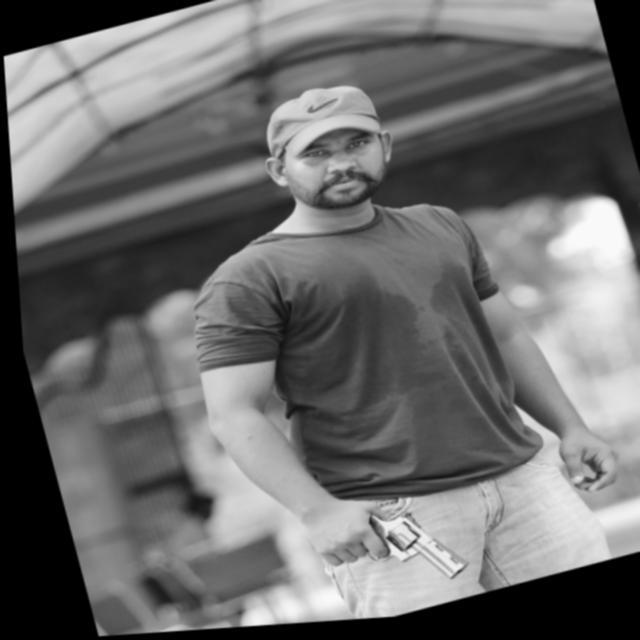weapon: (290, 486, 479, 624)
